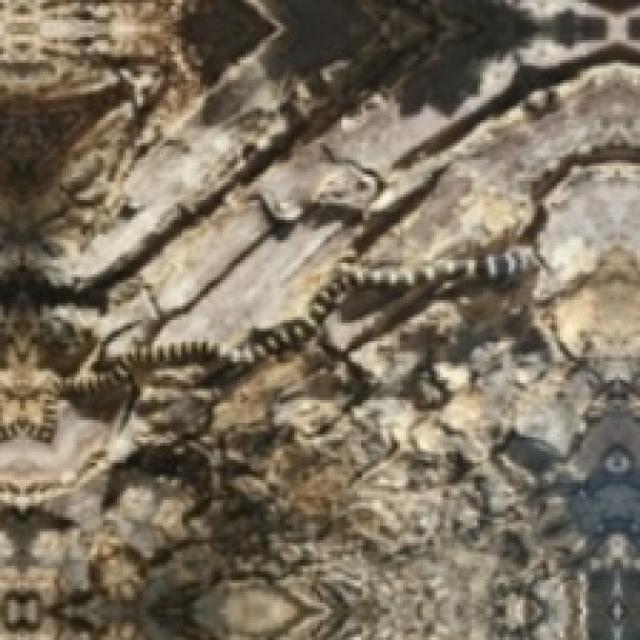paradise tree snake: (0, 243, 537, 506)
